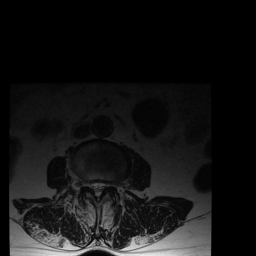CCS_normal: (95, 174, 101, 204)
LFS_stenosis: (106, 174, 113, 192)
LLS_stenosis: (101, 174, 106, 194)
RFS_stenosis: (83, 173, 89, 192)
RLS_normal: (89, 176, 95, 194)
